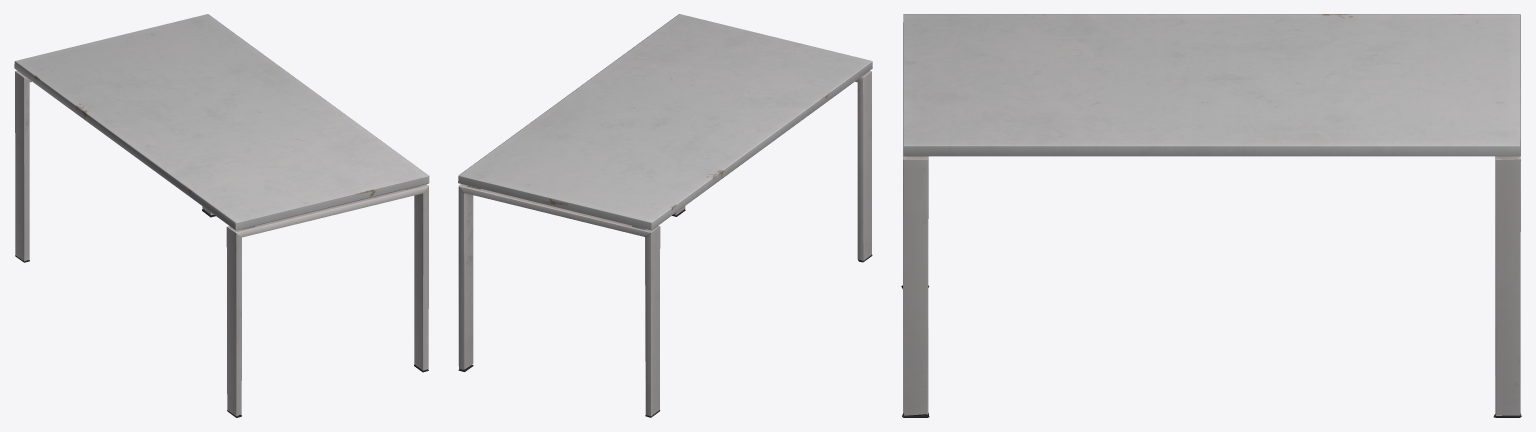
The model's file is SM_Office_desk_NN_01b.fbx.
The picture shows the model from 3 angles, left to right: view 1: azimuth 30°, elevation 25°; view 2: azimuth 150°, elevation 25°; view 3: azimuth 270°, elevation 25°; orthographic projection. The views are drawn at different scales.
Visible parts, largest first — view 1: SM_Office_desk_NN_01b_LOD0; view 2: SM_Office_desk_NN_01b_LOD0; view 3: SM_Office_desk_NN_01b_LOD0.
Boxes of the visible parts, x1,y1,x2,y2 form: SM_Office_desk_NN_01b_LOD0: [14, 14, 429, 417]; SM_Office_desk_NN_01b_LOD0: [458, 14, 872, 417]; SM_Office_desk_NN_01b_LOD0: [901, 14, 1521, 417].
Bounding box in the file's own units: 80.34 × 159 × 77.54.
